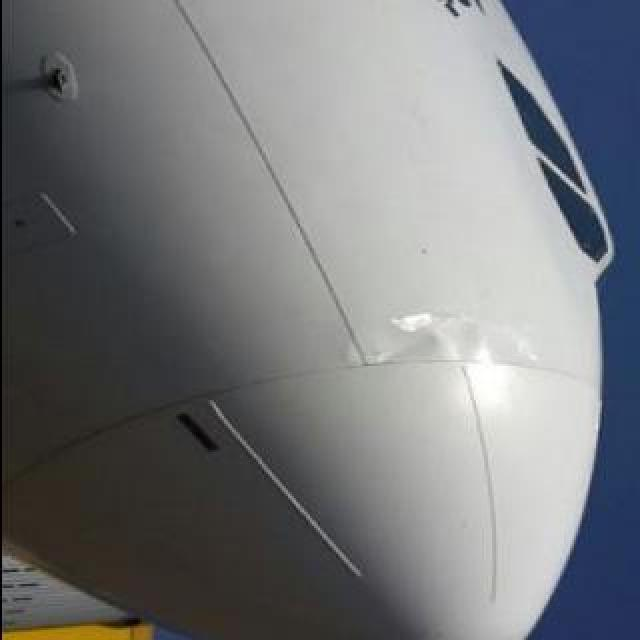dent: (332, 304, 540, 380)
